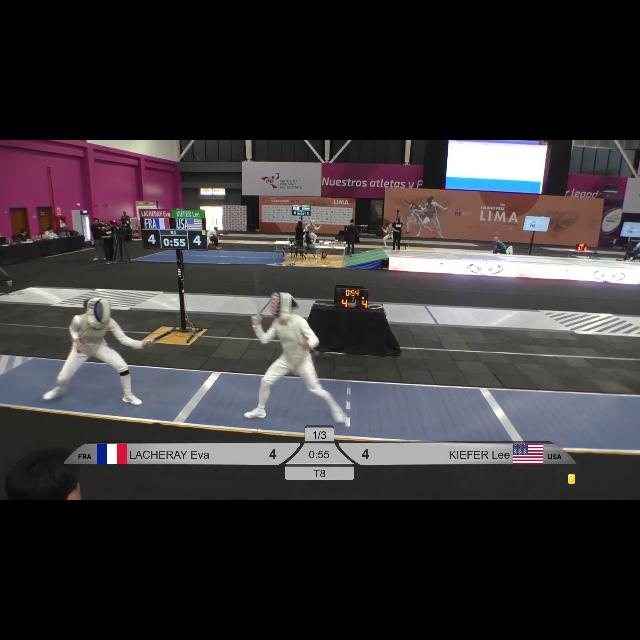blade: (250, 264, 262, 320), (147, 334, 180, 344)
